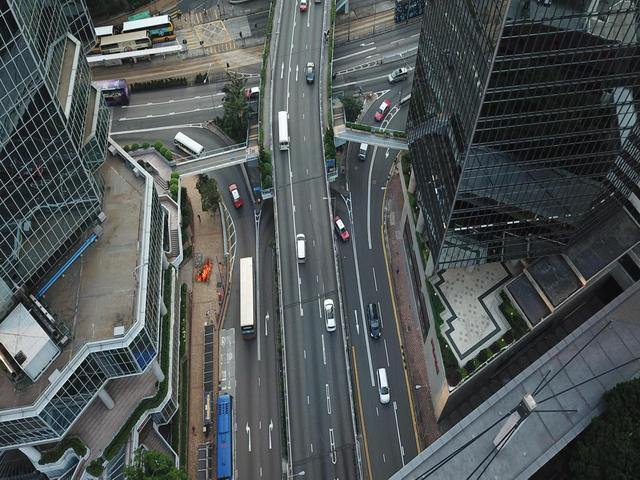fire: (192, 252, 214, 285)
